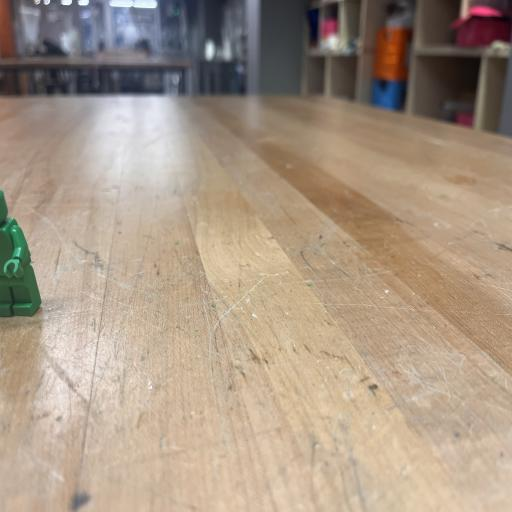Lego-Minifig: (0, 189, 41, 316), (0, 189, 8, 226), (0, 214, 5, 220)
